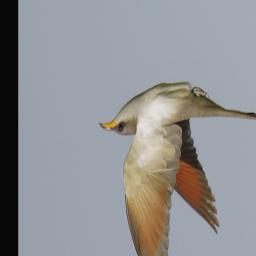Cuckoo: (99, 84, 256, 256)
